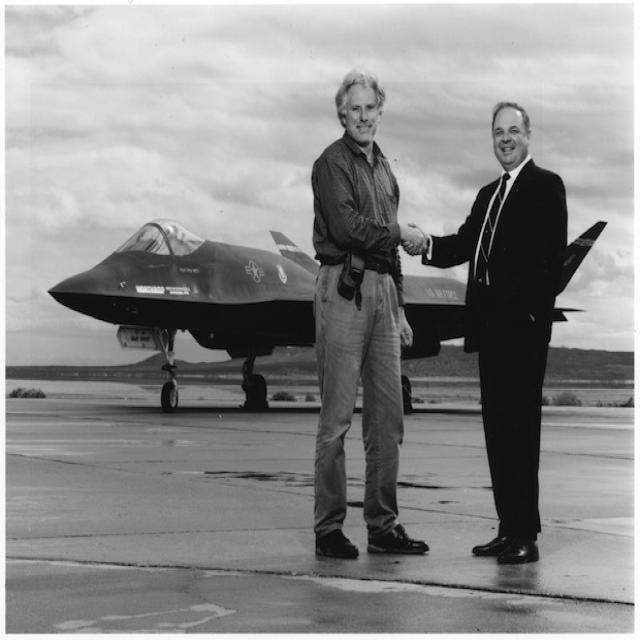MIL_Plane: (45, 220, 608, 414)
